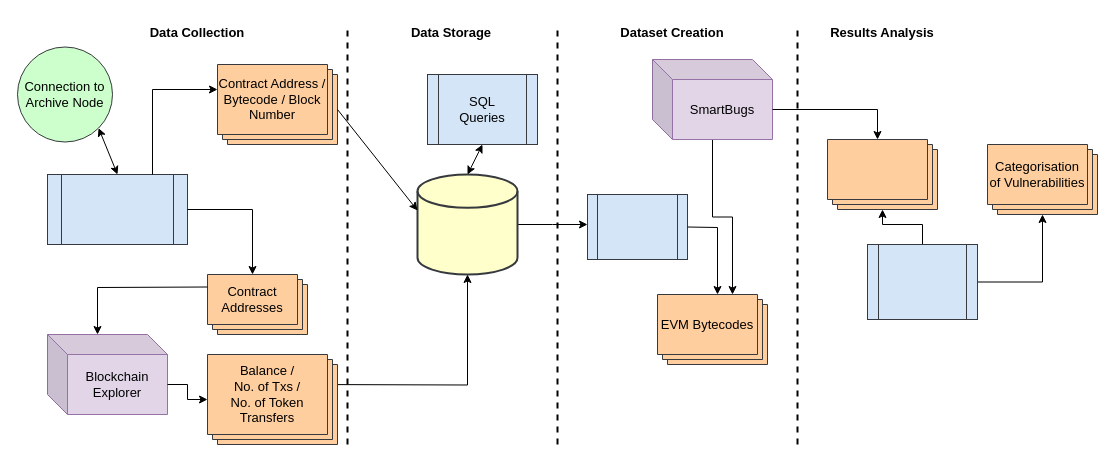
This 1115x464 diagram has some shape labels left out. Here are the shapes that lost their labels. From the top down, the centre of each, then its label:
the point at 882,174: Results in JSON files
the point at 117,209: Smart Contract Addresses / Metada Collection
the point at 467,224: Smart Contract Database
the point at 637,227: Filtering And Writing In Files
the point at 922,282: Result Parsers
